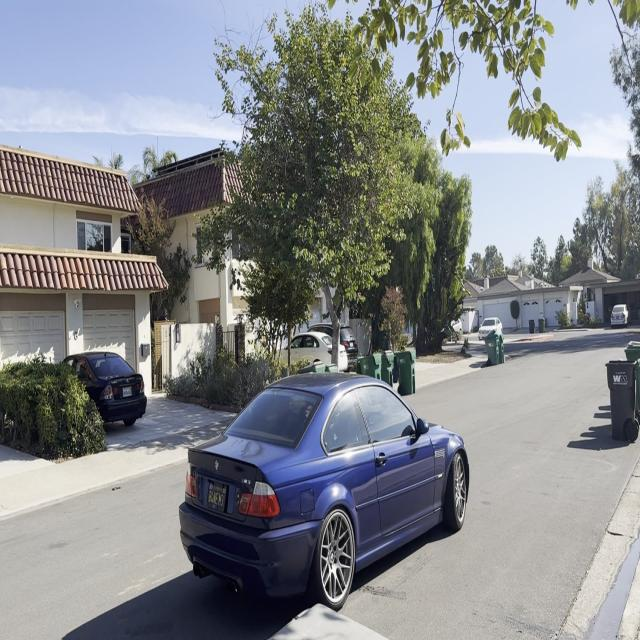Carbeetle: (176, 372, 475, 622)
Civilian: (46, 341, 150, 441), (271, 324, 362, 368), (474, 310, 502, 346), (606, 295, 630, 331)
